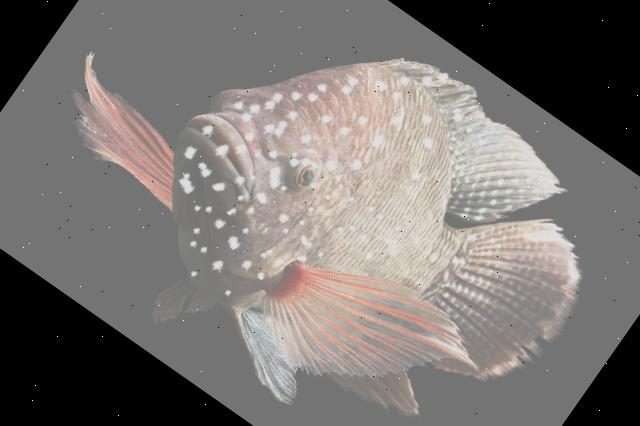Ichthyophthirius -White Spots-: (73, 56, 578, 414), (73, 57, 578, 414), (74, 60, 578, 414), (74, 60, 578, 414)
